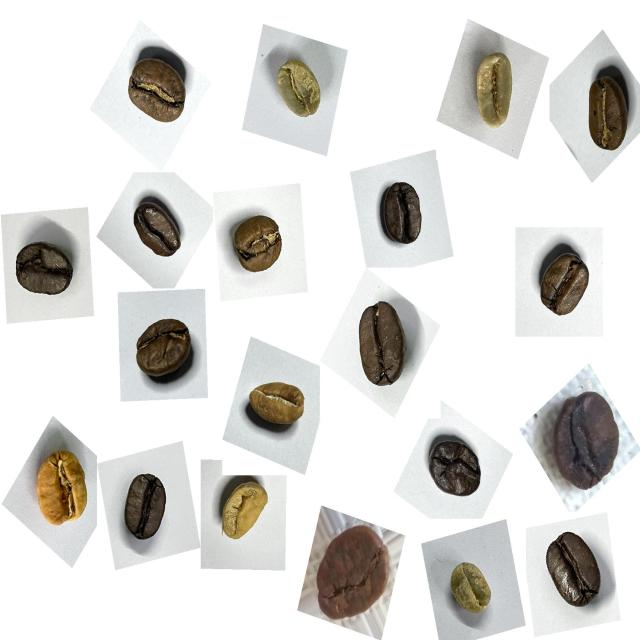bad: (307, 509, 399, 632), (536, 380, 630, 497)
dark: (531, 521, 611, 620), (4, 230, 82, 314), (114, 458, 180, 554), (418, 429, 490, 512), (371, 168, 437, 258), (122, 184, 190, 268)
green: (460, 40, 530, 142), (261, 46, 333, 134), (438, 552, 500, 627)
light: (21, 437, 102, 542), (240, 365, 316, 446), (210, 471, 276, 552)
medium: (340, 296, 422, 404), (573, 58, 640, 166), (127, 306, 205, 394), (119, 50, 197, 138), (528, 238, 599, 330), (226, 205, 296, 288)
